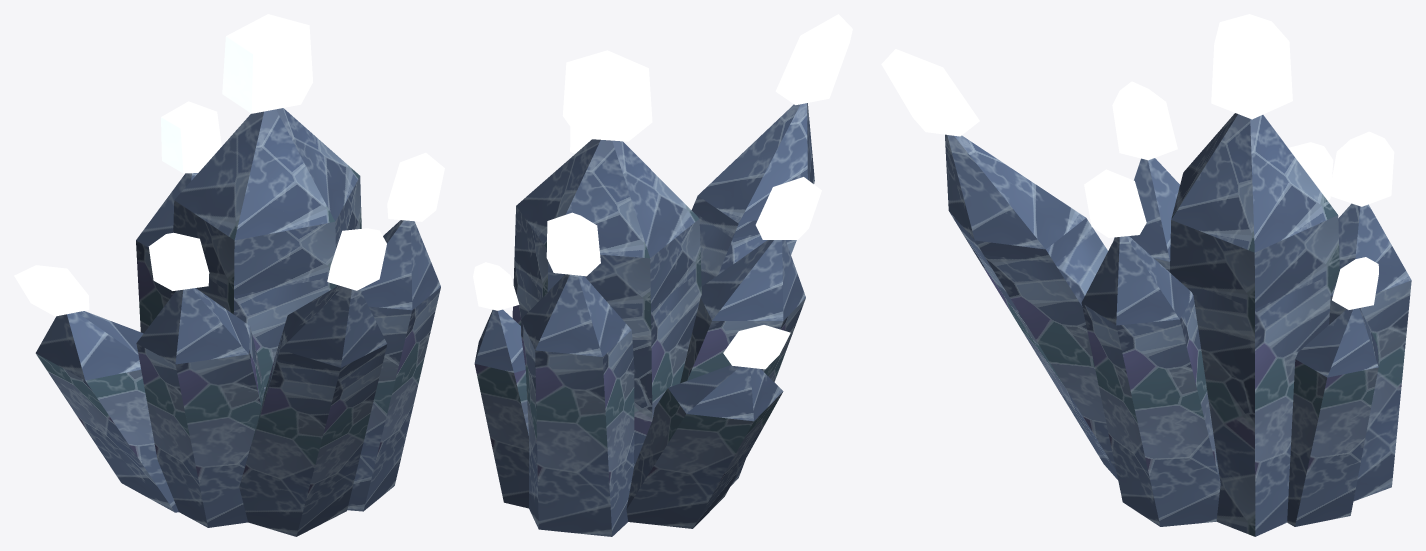
File: Oracle_Crystal_Cluster_2_LOD1.gltf
The picture shows the model from 3 angles, left to right: view 1: azimuth 30°, elevation 25°; view 2: azimuth 150°, elevation 25°; view 3: azimuth 270°, elevation 25°; orthographic projection. The views are drawn at different scales.
Parts seen in each view (by area): view 1: Oracle_Crystal_Cluster_2_LOD1; view 2: Oracle_Crystal_Cluster_2_LOD1; view 3: Oracle_Crystal_Cluster_2_LOD1.
Part boxes in pixels (x1,y1,x2,y2): Oracle_Crystal_Cluster_2_LOD1: [14, 14, 444, 536]; Oracle_Crystal_Cluster_2_LOD1: [473, 14, 852, 536]; Oracle_Crystal_Cluster_2_LOD1: [881, 14, 1411, 536].
Bounding box in the file's own units: 4.69 × 6.34 × 6.47.
2 materials, 2 textured.
